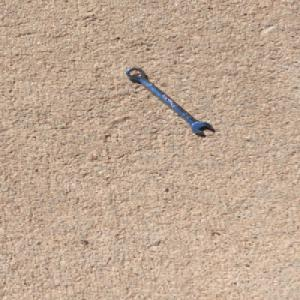Wrench: (124, 66, 215, 136)
